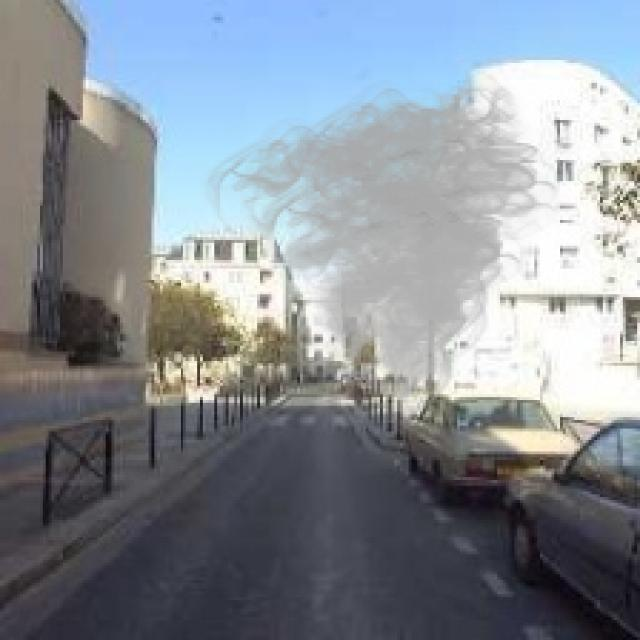smoke: (200, 63, 571, 423)
